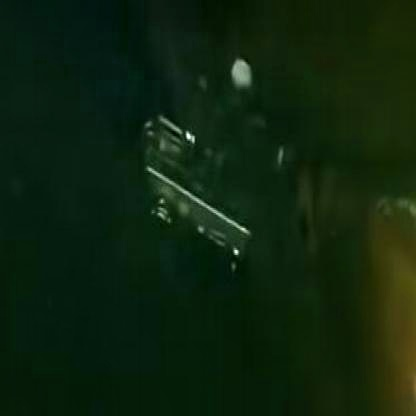electronics: (129, 117, 256, 287)
